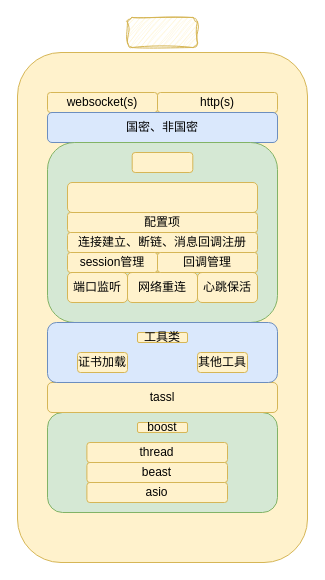
Image size: 325x580. Some labels were removed from this diagram. The centre of each missing label's shape, as x and y in pixels:
boostssl: point 162,32
WsService: point 162,162
接口： 单播，多播，广播: point 162,197
